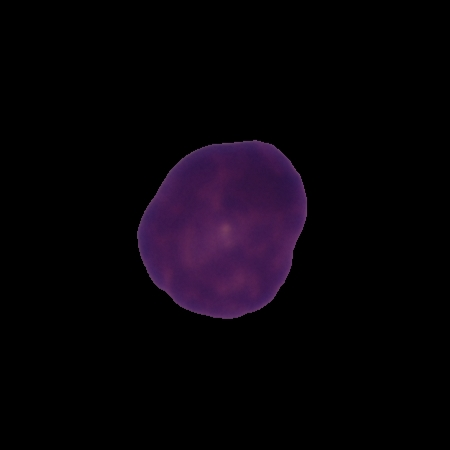HEM: (134, 136, 310, 322)
